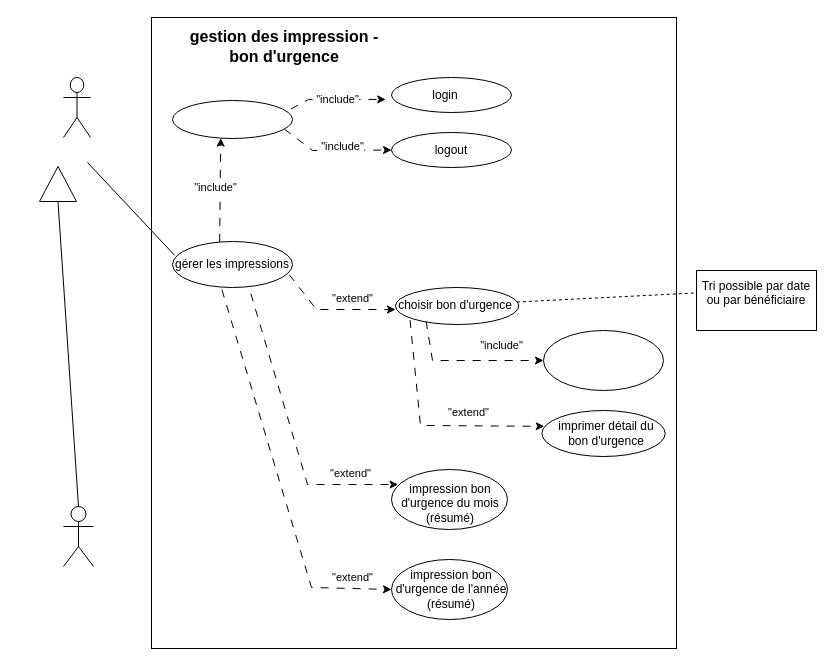
The diagram is 834 pixels wide and 666 high, and some of its shapes have lost their labels. Here are the shapes that lost their labels. From the top down, the box of each, then its label:
(62, 76, 90, 138): assistante sociale
(172, 100, 292, 138): authentifier
(542, 330, 664, 390): afficher détail du bon d'urgence
(62, 506, 94, 566): administrateur de l'asbl
